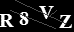8: (18, 11, 30, 26)
R: (1, 12, 15, 28)
V: (38, 5, 55, 20)
Z: (58, 14, 73, 29)
